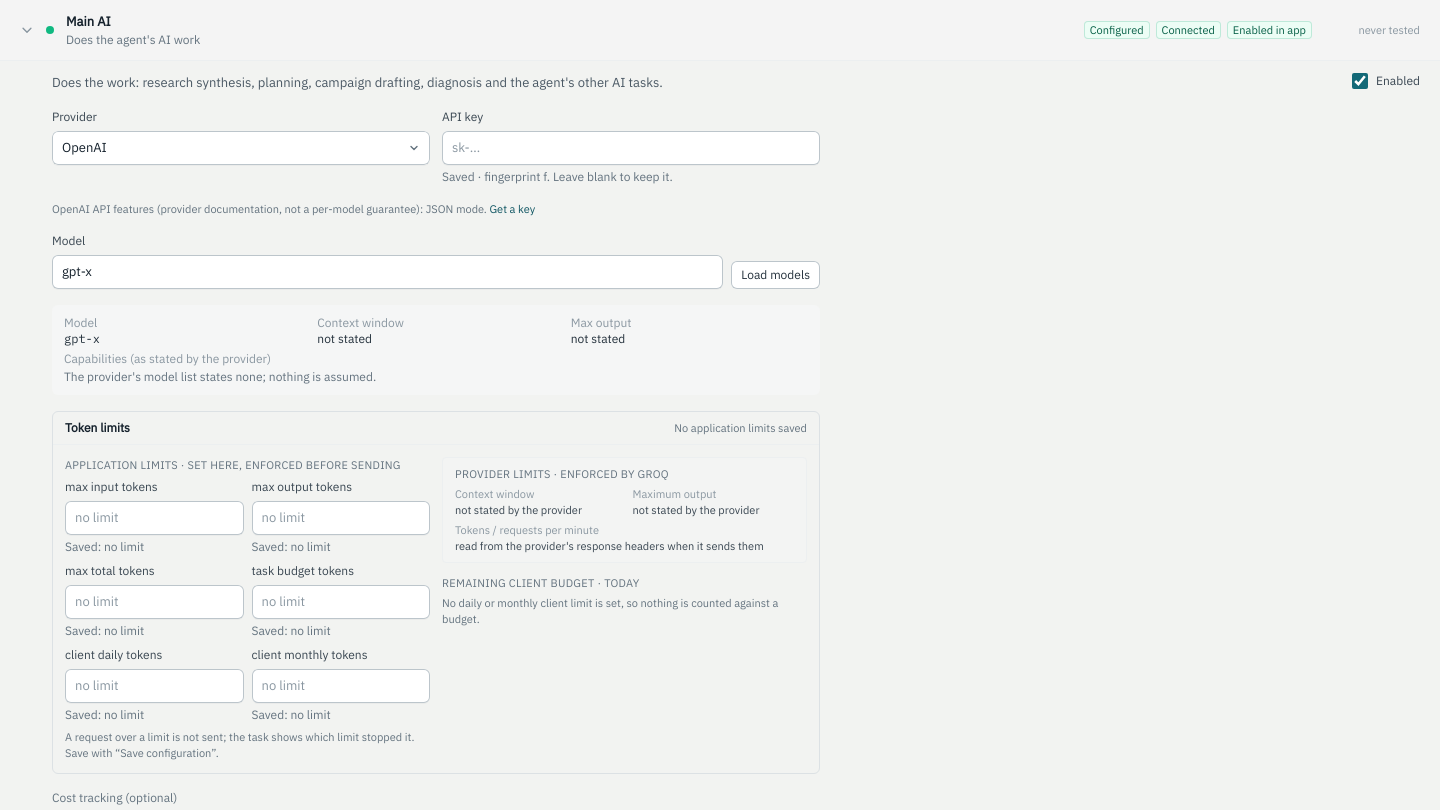
Test: AI roles › tells a discovery failure apart and still allows a manual model id
This screenshot has width=1440, height=810.
Click the button "Load models" at (776, 275), box [731,261,820,289]
(page scrolled)
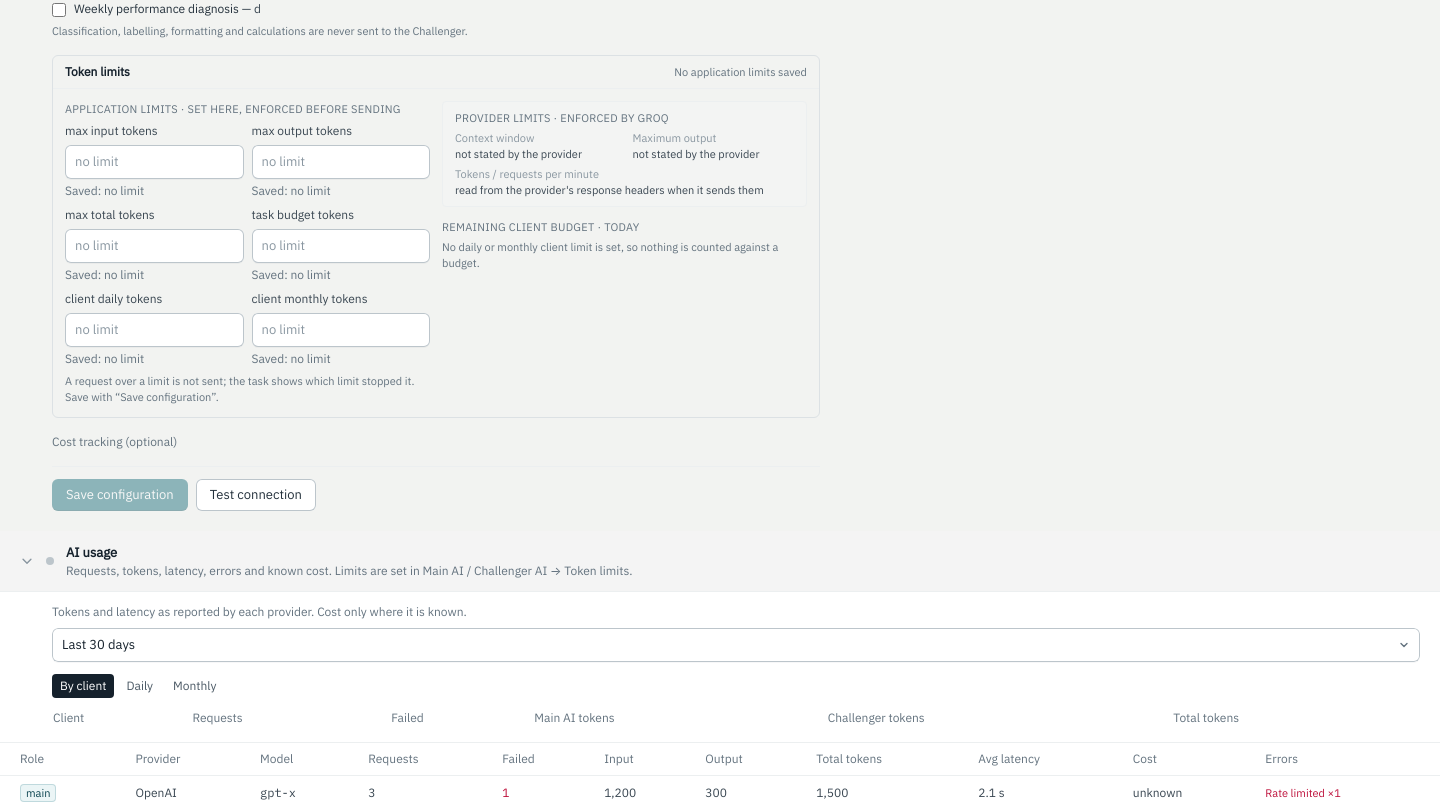
Now the text "unknown" is shown, box [1121,776,1253,809]
Now the text "Rate limited ×1" is shown, box [1265,785,1341,801]
